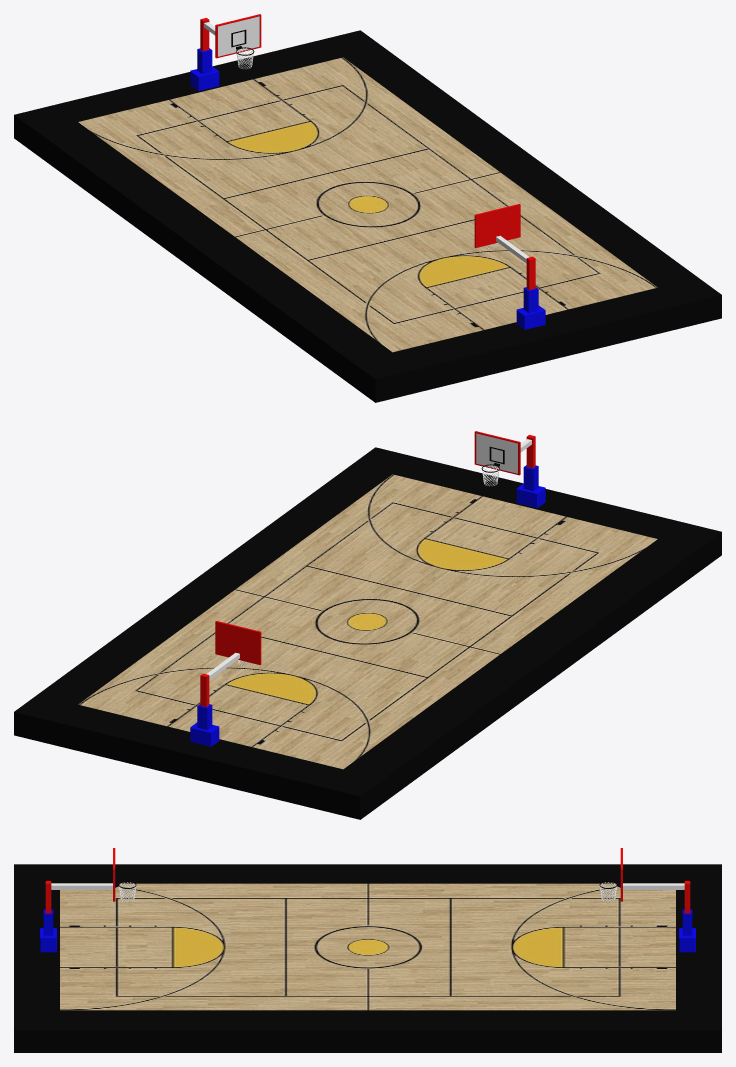
Rendered from bball-court (1).fbx.
The picture shows the model from 3 angles, top to bottom: view 1: azimuth 30°, elevation 25°; view 2: azimuth 150°, elevation 25°; view 3: azimuth 270°, elevation 25°; orthographic projection. The views are drawn at different scales.
Parts seen in each view (by area): view 1: court-floor, board.001, board.002, ringstand.002, ringstand.001; view 2: court-floor, board.002, board.001, ringstand.001, ringstand.002; view 3: court-floor, ringstand.001, ringstand.002.
Part boxes in pixels (x1=…): court-floor: x1=14, y1=30, x2=721, y2=402; board.001: x1=215, y1=14, x2=261, y2=58; board.002: x1=474, y1=204, x2=520, y2=247; ringstand.002: x1=496, y1=235, x2=545, y2=329; ringstand.001: x1=190, y1=18, x2=219, y2=90; court-floor: x1=14, y1=447, x2=721, y2=819; board.002: x1=474, y1=431, x2=520, y2=475; board.001: x1=215, y1=621, x2=261, y2=664; ringstand.001: x1=190, y1=652, x2=239, y2=746; ringstand.002: x1=516, y1=435, x2=545, y2=507; court-floor: x1=14, y1=864, x2=721, y2=1052; ringstand.001: x1=623, y1=881, x2=695, y2=952; ringstand.002: x1=40, y1=881, x2=112, y2=952.
Size of the model in its own units: 13187 by 4130 by 23833.
